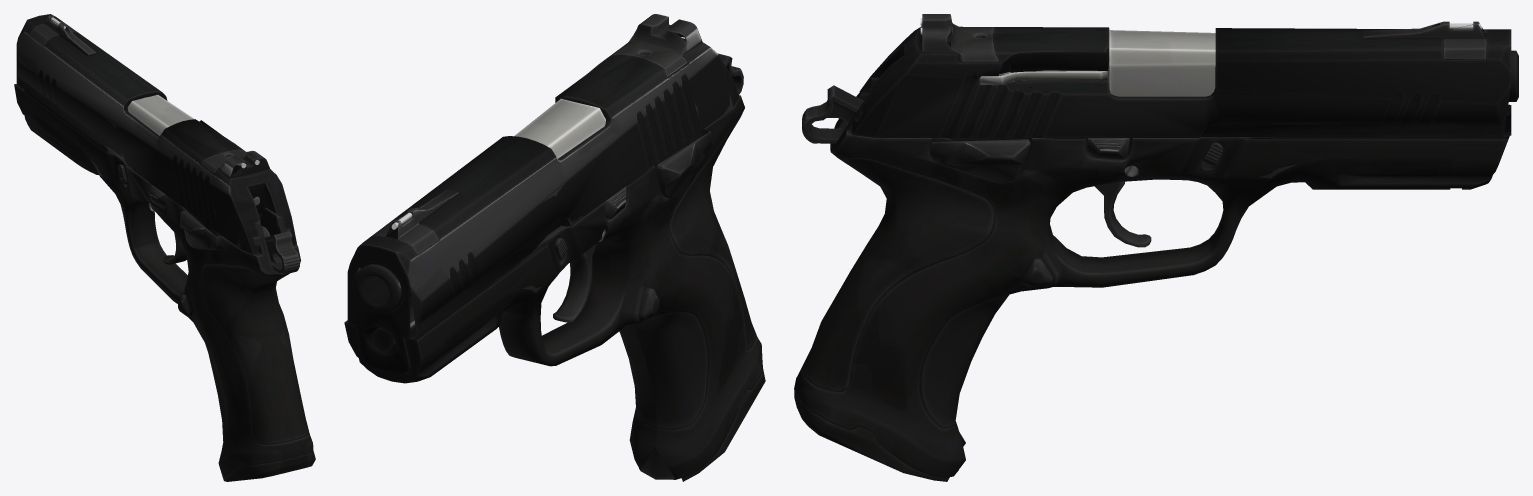
Rendered from pistol.obj.
3 views of the same model, side by side, from view 1: azimuth 30°, elevation 25°; view 2: azimuth 150°, elevation 25°; view 3: azimuth 270°, elevation 25° (orthographic). The views are drawn at different scales.
Parts seen in each view (by area): view 1: GN_BasePistol_S0_Skelmesh.mo_GN_BasePistol_S0_Skelmesh.md_BasePi; view 2: GN_BasePistol_S0_Skelmesh.mo_GN_BasePistol_S0_Skelmesh.md_BasePi; view 3: GN_BasePistol_S0_Skelmesh.mo_GN_BasePistol_S0_Skelmesh.md_BasePi.
Part boxes in pixels (x1=…): GN_BasePistol_S0_Skelmesh.mo_GN_BasePistol_S0_Skelmesh.md_BasePi: x1=14, y1=14, x2=315, y2=481; GN_BasePistol_S0_Skelmesh.mo_GN_BasePistol_S0_Skelmesh.md_BasePi: x1=344, y1=14, x2=765, y2=481; GN_BasePistol_S0_Skelmesh.mo_GN_BasePistol_S0_Skelmesh.md_BasePi: x1=794, y1=14, x2=1518, y2=481.
Bounding box in the file's own units: 2.06 × 8.45 × 12.37.
Materials: 2 (1 with a texture image).
